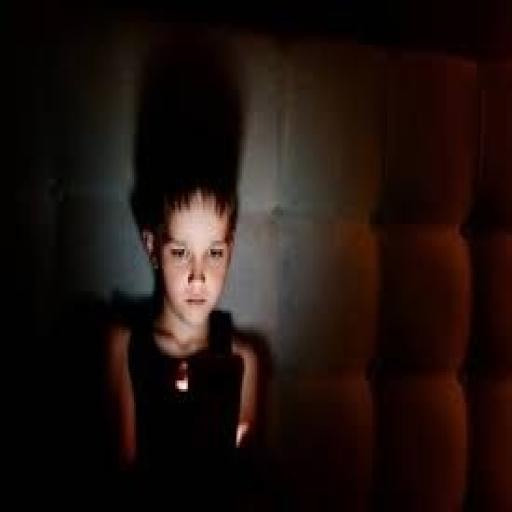texting: (97, 50, 266, 510)
